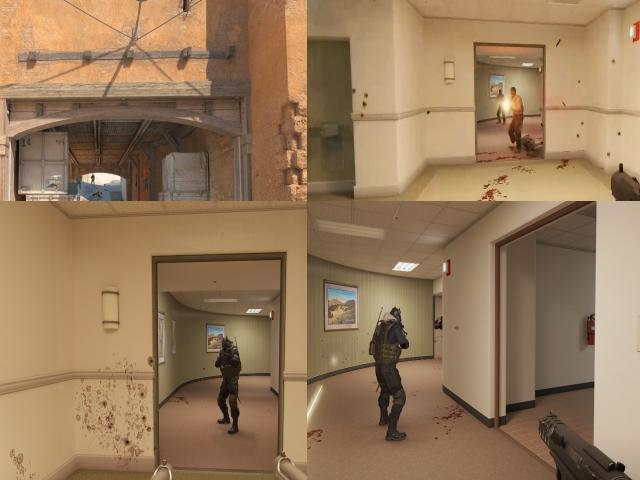CT: (377, 308, 405, 439), (218, 337, 240, 427), (76, 176, 83, 188), (91, 174, 95, 184)
CT-Head: (389, 306, 402, 325), (222, 338, 231, 350), (92, 174, 94, 175)
Dead: (520, 131, 548, 162), (92, 191, 103, 198), (119, 199, 126, 201)
T: (508, 85, 524, 146), (495, 87, 506, 124)
T-Head: (510, 86, 518, 99), (497, 87, 505, 96)
